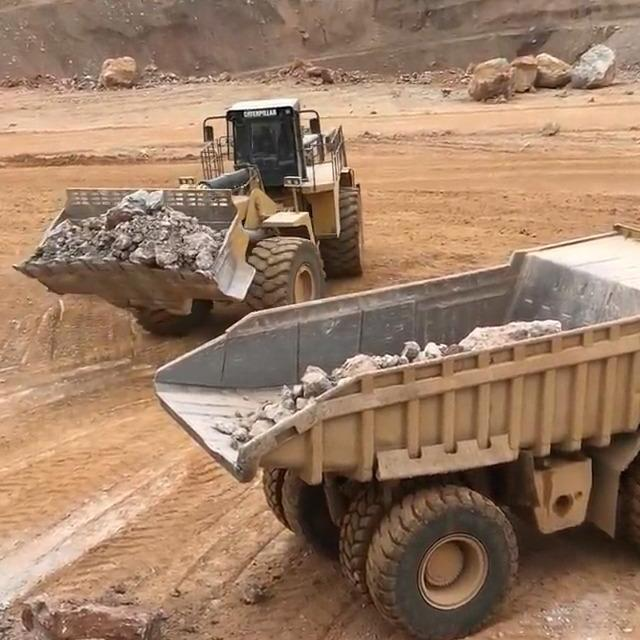dump truck: (144, 215, 640, 640)
wheel loader: (11, 94, 368, 352)
